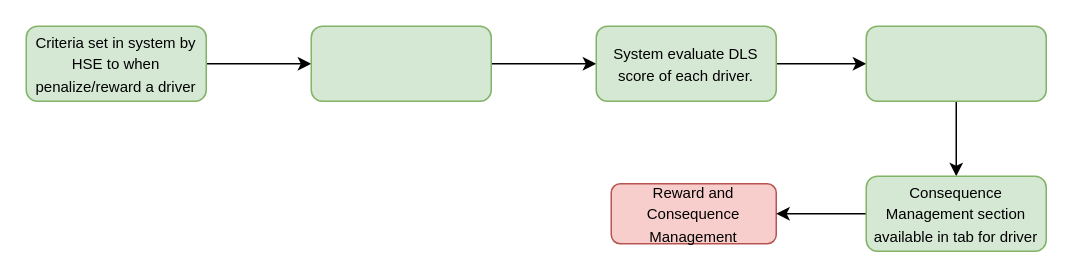
Some shapes in this 1073 by 278 pixel diagram are drawn without their labels. The centre of each missing label's shape, as x and y in pixels:
DLS score automatically updated each month: point 400,63
System penalize/award driver based on score and criteria set by HSE.: point 955,63
